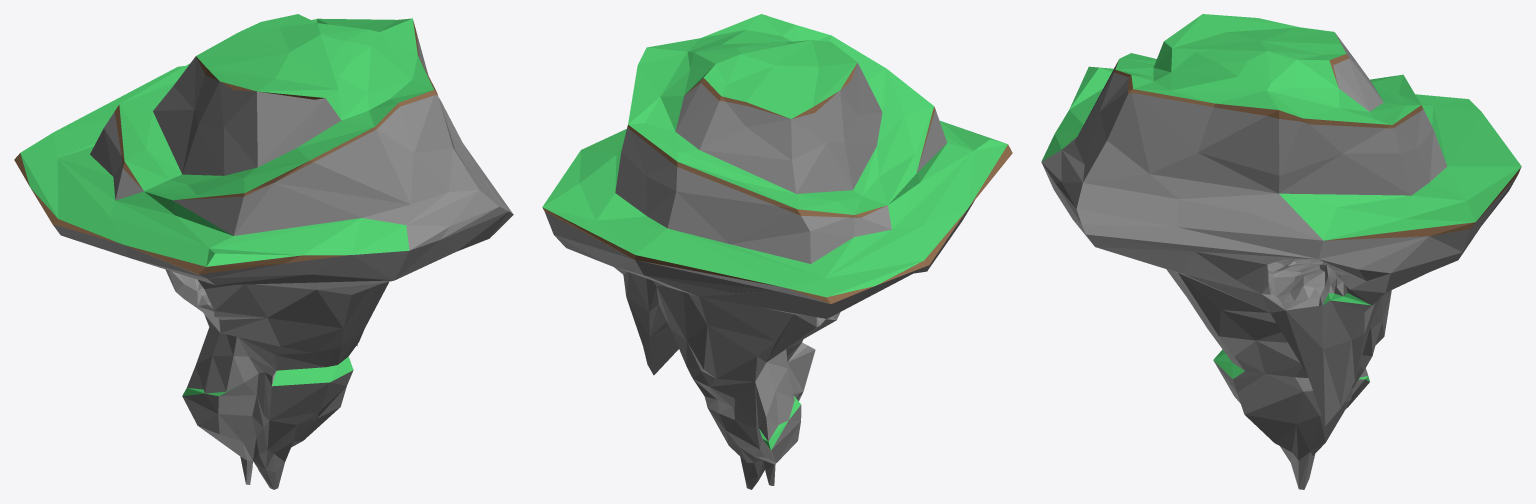
File: LargeIsland.fbx
The picture shows the model from 3 angles, left to right: view 1: azimuth 30°, elevation 25°; view 2: azimuth 150°, elevation 25°; view 3: azimuth 270°, elevation 25°; orthographic projection. The views are drawn at different scales.
Visible parts, largest first — view 1: MegaIsland; view 2: MegaIsland; view 3: MegaIsland.
Boxes of the visible parts, x1=… form: MegaIsland: x1=14, y1=14, x2=513, y2=489; MegaIsland: x1=542, y1=14, x2=1012, y2=489; MegaIsland: x1=1041, y1=14, x2=1521, y2=489.
Size of the model in its own units: 8772 by 9924 by 9560.
